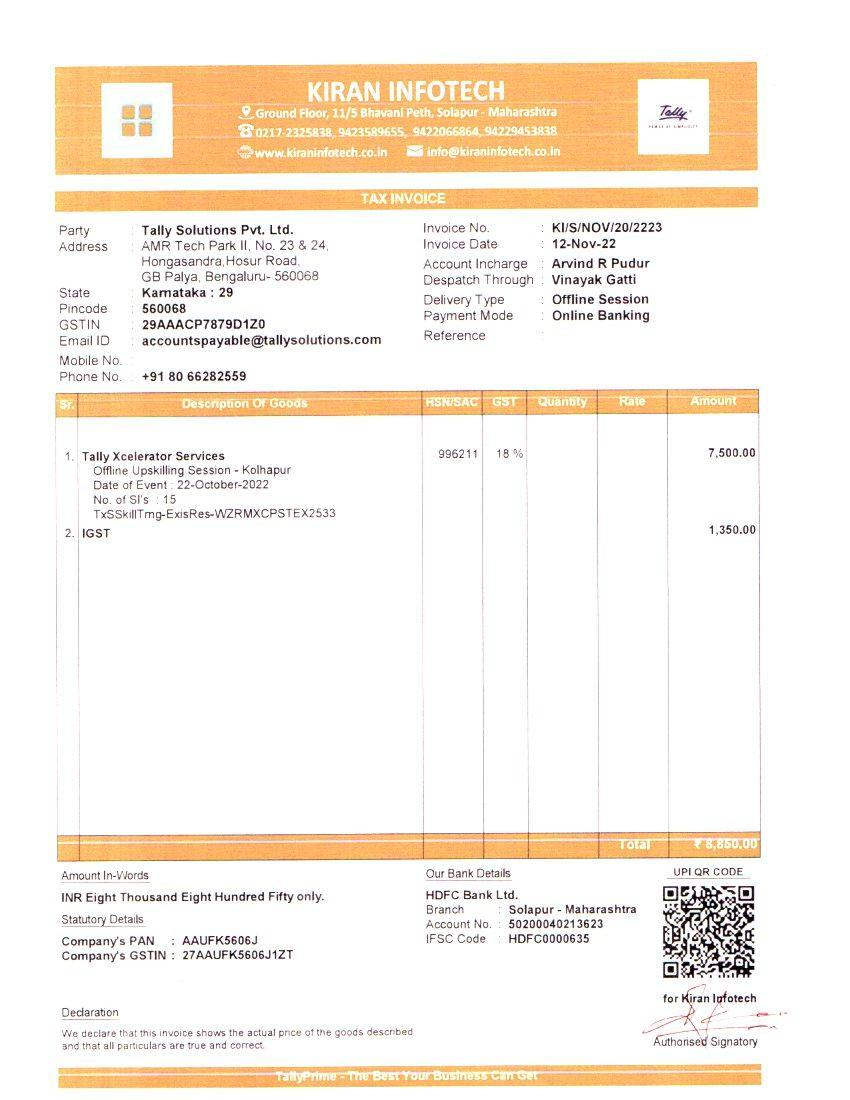InvoiceDate: (553, 237, 618, 251)
InvoiceNumber: (551, 219, 666, 237)
TotalAmount: (689, 830, 760, 853)
